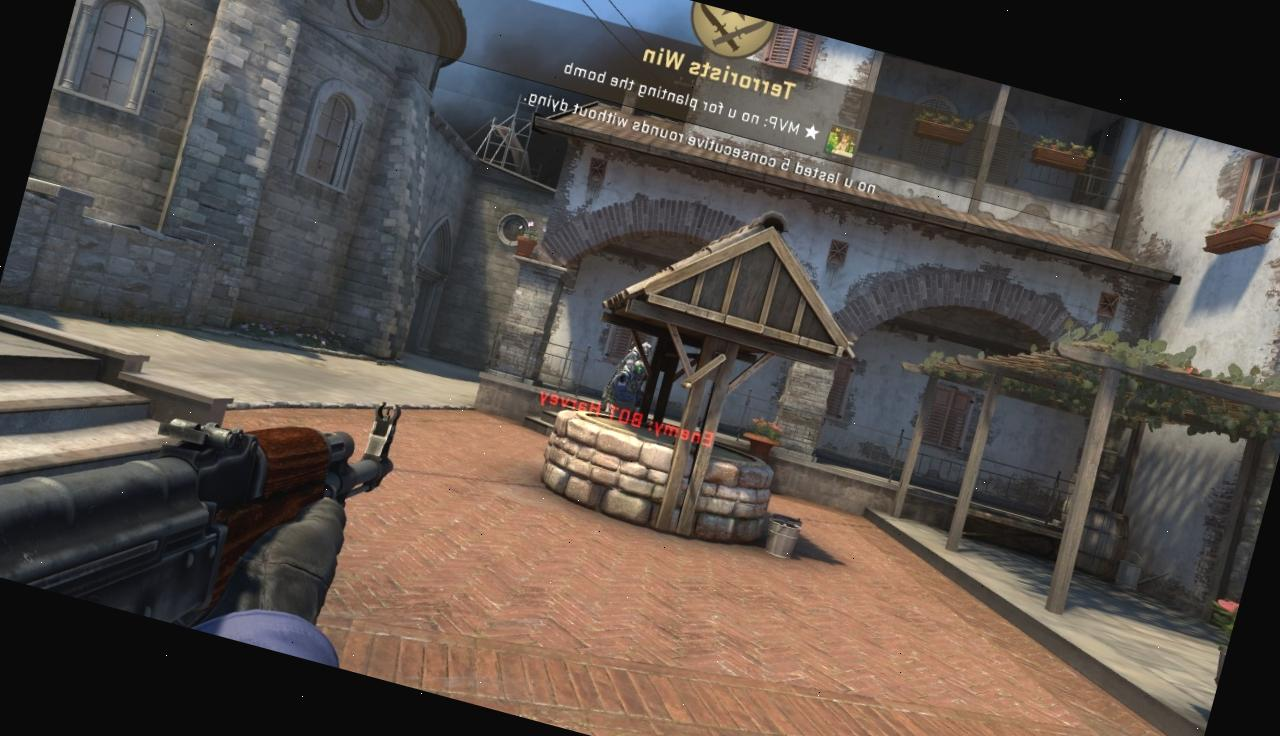ct: (604, 357, 650, 419)
cthead: (629, 362, 649, 384), (634, 340, 655, 360)
rifle: (0, 293, 414, 669)
